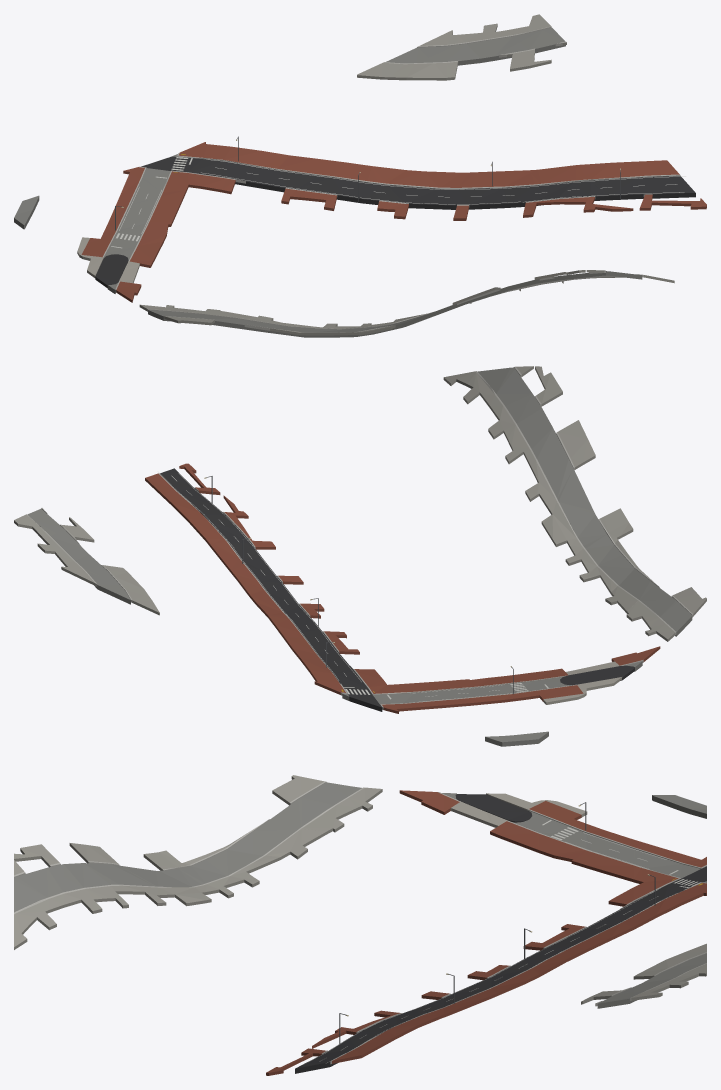
3 renders of one model, top to bottom at view 1: azimuth 30°, elevation 25°; view 2: azimuth 150°, elevation 25°; view 3: azimuth 270°, elevation 25°, orthographic. The views are drawn at different scales.
Size of the model in its own units: 148 by 26.33 by 146.
